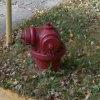Hydrant: (17, 15, 71, 80)
